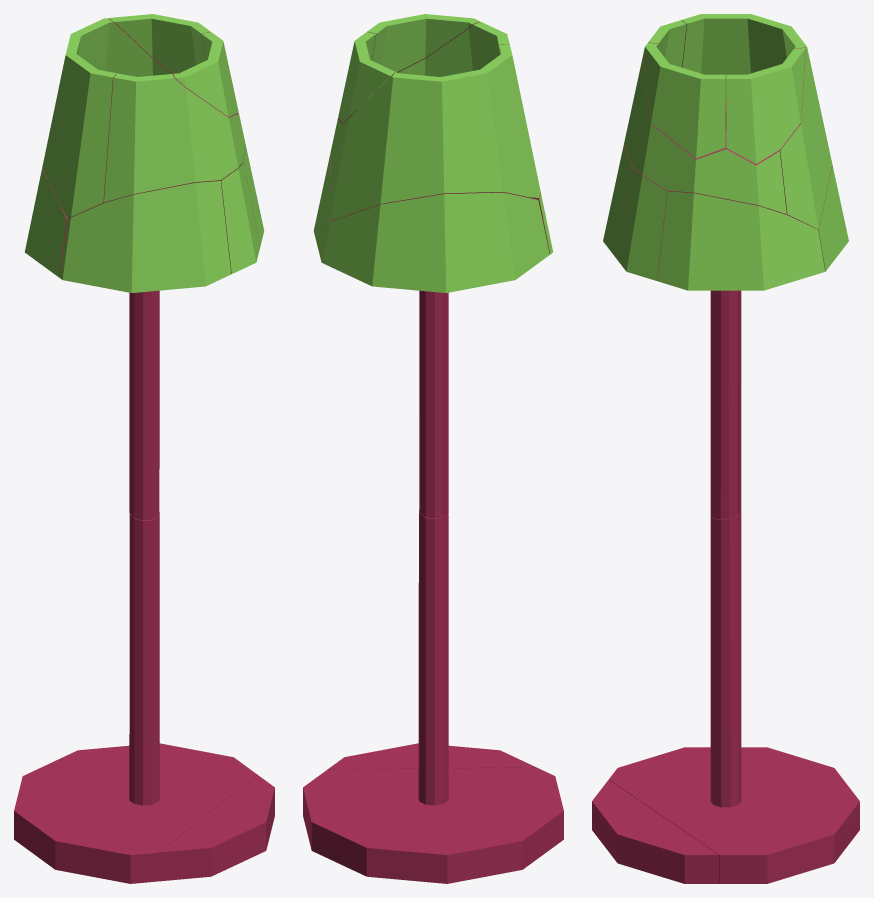
Rendered from StandingLamp2Shatter.fbx.
3 views of the same model, side by side, from view 1: azimuth 30°, elevation 25°; view 2: azimuth 150°, elevation 25°; view 3: azimuth 270°, elevation 25° (orthographic).
Parts seen in each view (by area): view 1: Cylinder_cell.001, Cylinder_cell.013, Cylinder_cell.009, Cylinder_cell.002, Cylinder_cell.007, Cylinder_cell.006, Cylinder_cell, Cylinder_cell.008, Cylinder_cell.012, Cylinder_cell.003, Cylinder_cell.011; view 2: Cylinder_cell.001, Cylinder_cell.002, Cylinder_cell.012, Cylinder_cell.005, Cylinder_cell.003, Cylinder_cell.009, Cylinder_cell.007, Cylinder_cell, Cylinder_cell.006, Cylinder_cell.011; view 3: Cylinder_cell.001, Cylinder_cell.011, Cylinder_cell.002, Cylinder_cell.009, Cylinder_cell.007, Cylinder_cell, Cylinder_cell.003, Cylinder_cell.006, Cylinder_cell.008, Cylinder_cell.012, Cylinder_cell.013, Cylinder_cell.005 (+1 smaller).
Boxes of the visible parts, x1=… form: Cylinder_cell.001: x1=14, y1=512, x2=257, y2=883; Cylinder_cell.013: x1=59, y1=181, x2=231, y2=292; Cylinder_cell.009: x1=104, y1=73, x2=245, y2=202; Cylinder_cell.002: x1=42, y1=18, x2=171, y2=218; Cylinder_cell.007: x1=159, y1=775, x2=274, y2=881; Cylinder_cell.006: x1=130, y1=290, x2=159, y2=520; Cylinder_cell: x1=108, y1=14, x2=210, y2=74; Cylinder_cell.008: x1=219, y1=163, x2=260, y2=273; Cylinder_cell.012: x1=24, y1=168, x2=68, y2=277; Cylinder_cell.003: x1=173, y1=32, x2=238, y2=116; Cylinder_cell.011: x1=242, y1=144, x2=264, y2=245; Cylinder_cell.001: x1=303, y1=510, x2=563, y2=883; Cylinder_cell.002: x1=329, y1=44, x2=540, y2=221; Cylinder_cell.012: x1=322, y1=192, x2=549, y2=292; Cylinder_cell.005: x1=420, y1=291, x2=443, y2=518; Cylinder_cell.003: x1=367, y1=14, x2=479, y2=75; Cylinder_cell.009: x1=330, y1=21, x2=509, y2=183; Cylinder_cell.007: x1=327, y1=743, x2=535, y2=769; Cylinder_cell: x1=338, y1=32, x2=394, y2=122; Cylinder_cell.006: x1=419, y1=290, x2=448, y2=516; Cylinder_cell.011: x1=313, y1=155, x2=330, y2=262; Cylinder_cell.001: x1=609, y1=513, x2=859, y2=883; Cylinder_cell.011: x1=657, y1=191, x2=825, y2=290; Cylinder_cell.002: x1=681, y1=14, x2=832, y2=229; Cylinder_cell.009: x1=624, y1=20, x2=786, y2=214; Cylinder_cell.007: x1=592, y1=779, x2=718, y2=883; Cylinder_cell: x1=726, y1=48, x2=805, y2=163; Cylinder_cell.003: x1=643, y1=42, x2=725, y2=158; Cylinder_cell.006: x1=710, y1=290, x2=738, y2=519; Cylinder_cell.008: x1=615, y1=169, x2=667, y2=280; Cylinder_cell.012: x1=818, y1=165, x2=848, y2=271; Cylinder_cell.013: x1=603, y1=145, x2=636, y2=256; Cylinder_cell.005: x1=738, y1=290, x2=741, y2=513.
Size of the model in its own units: 86.34 by 293 by 90.78.
